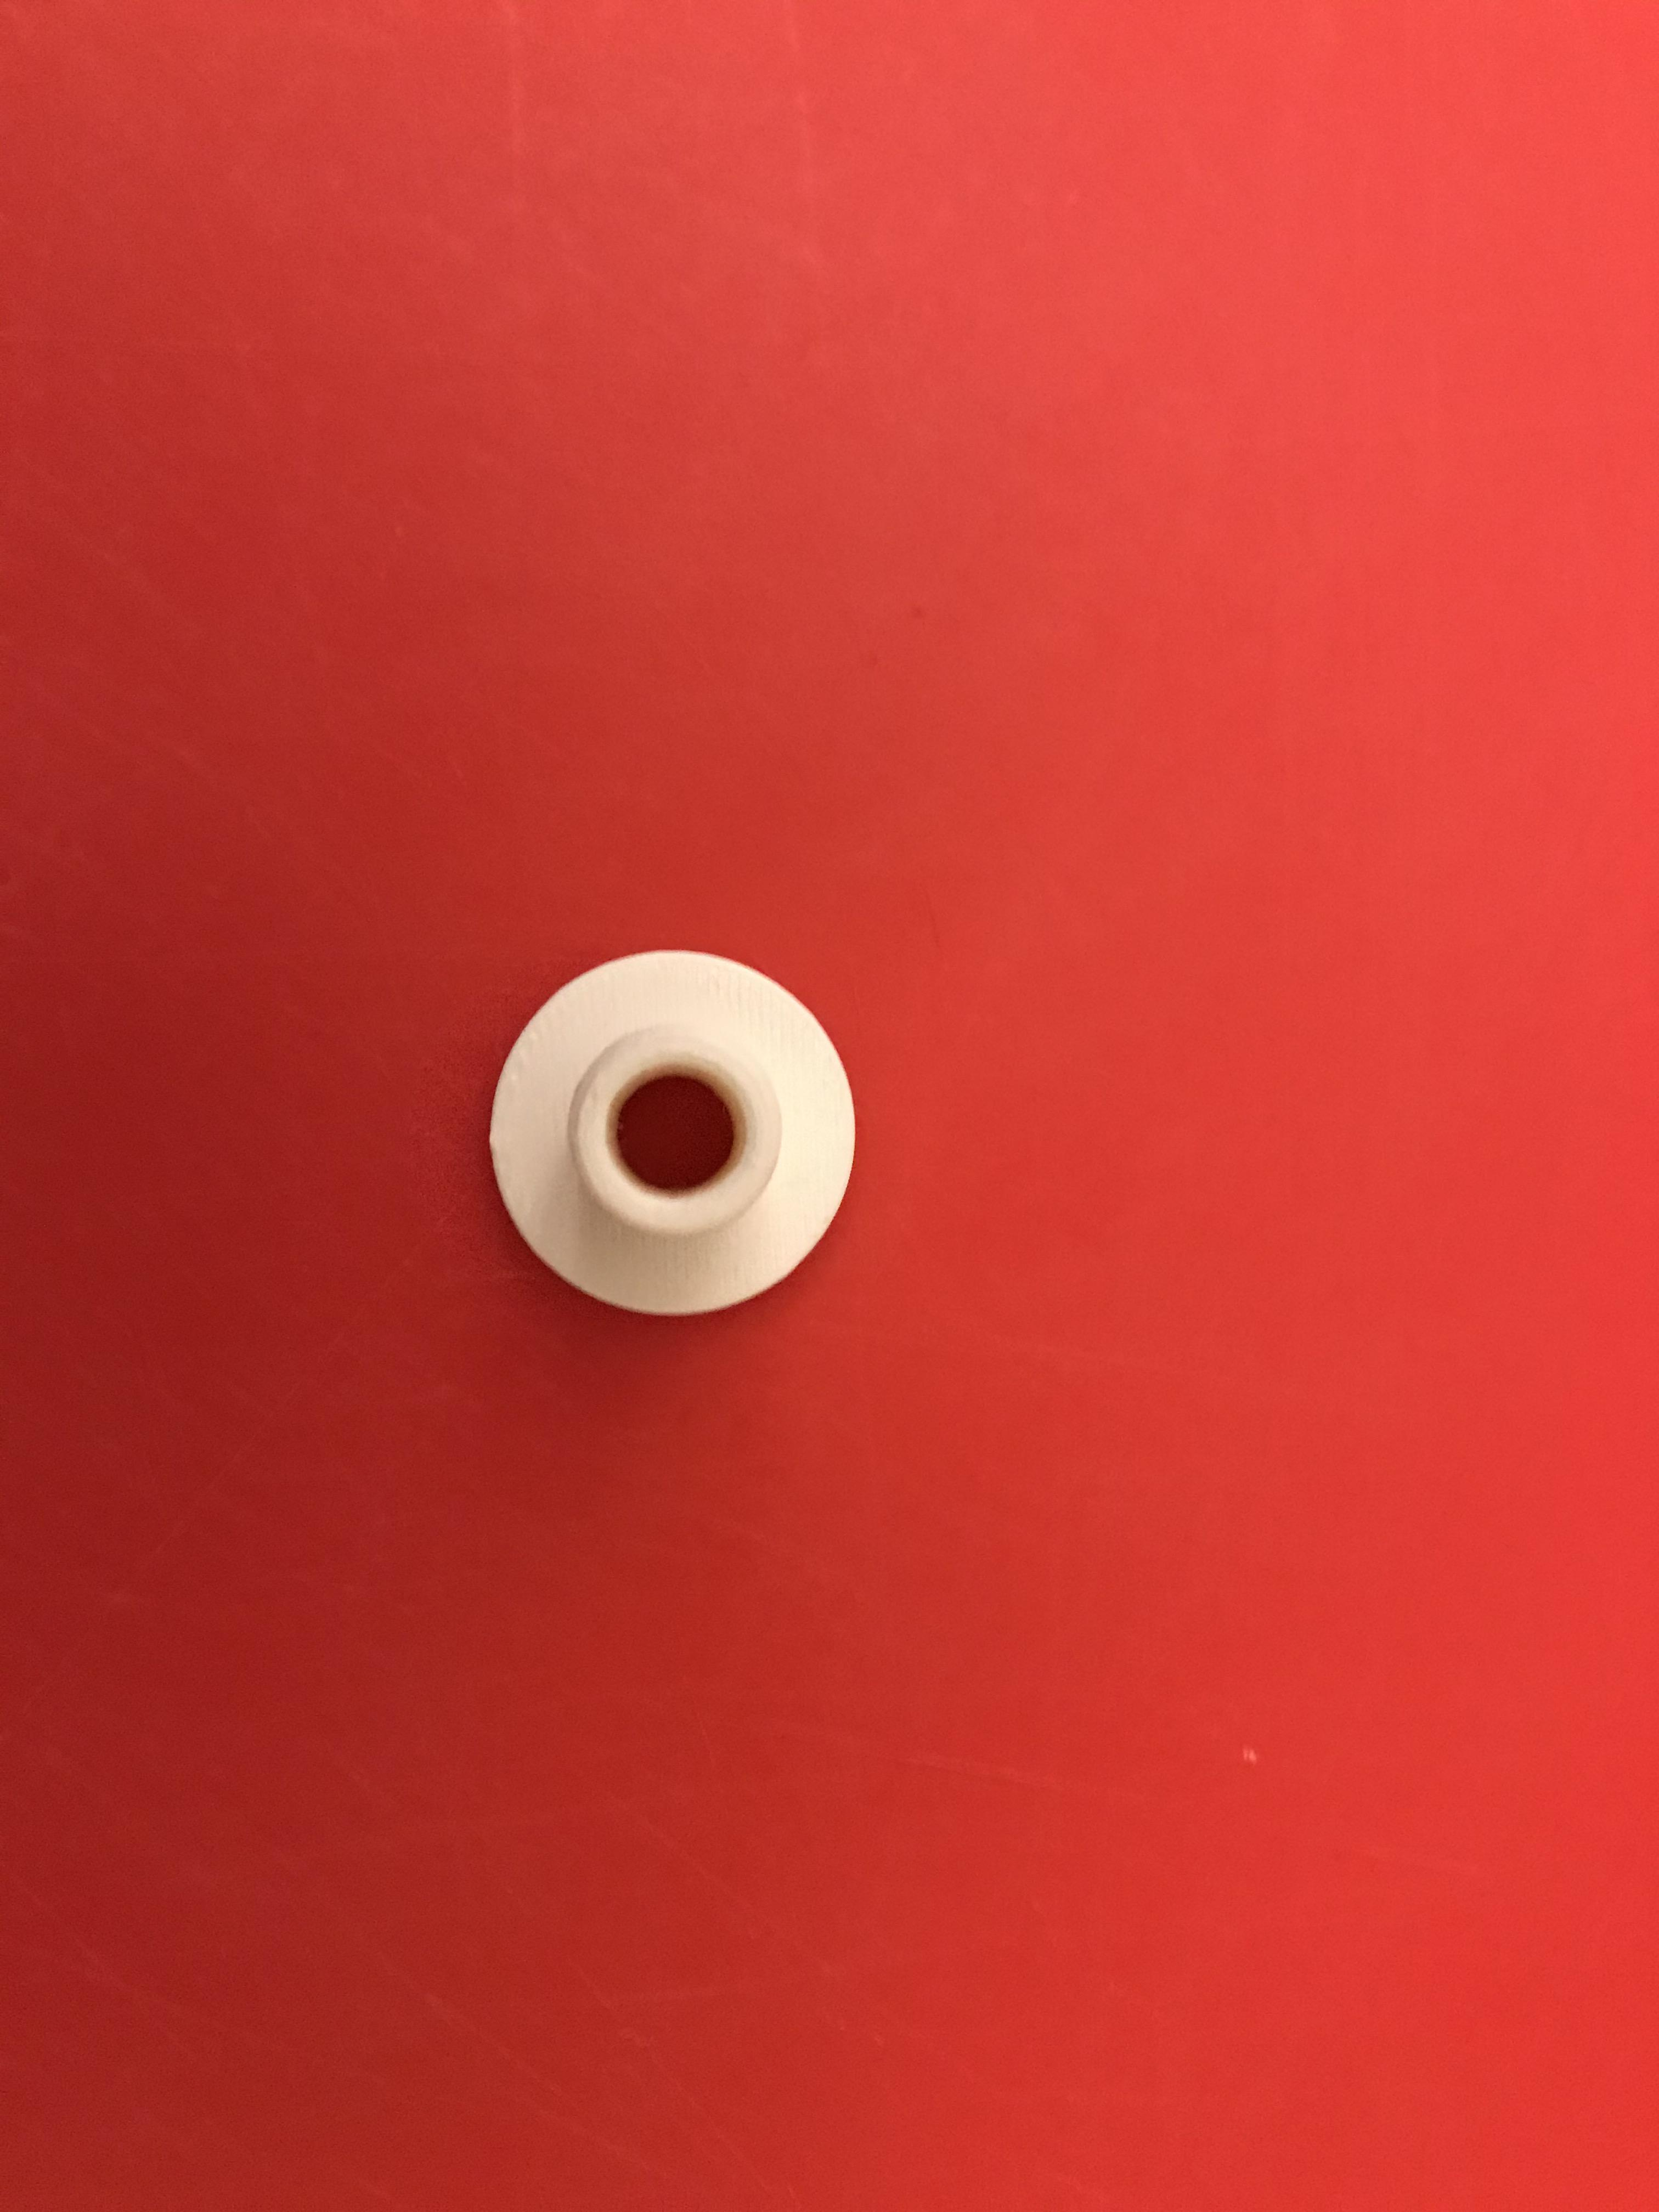White Cone: (476, 948, 850, 1322)
